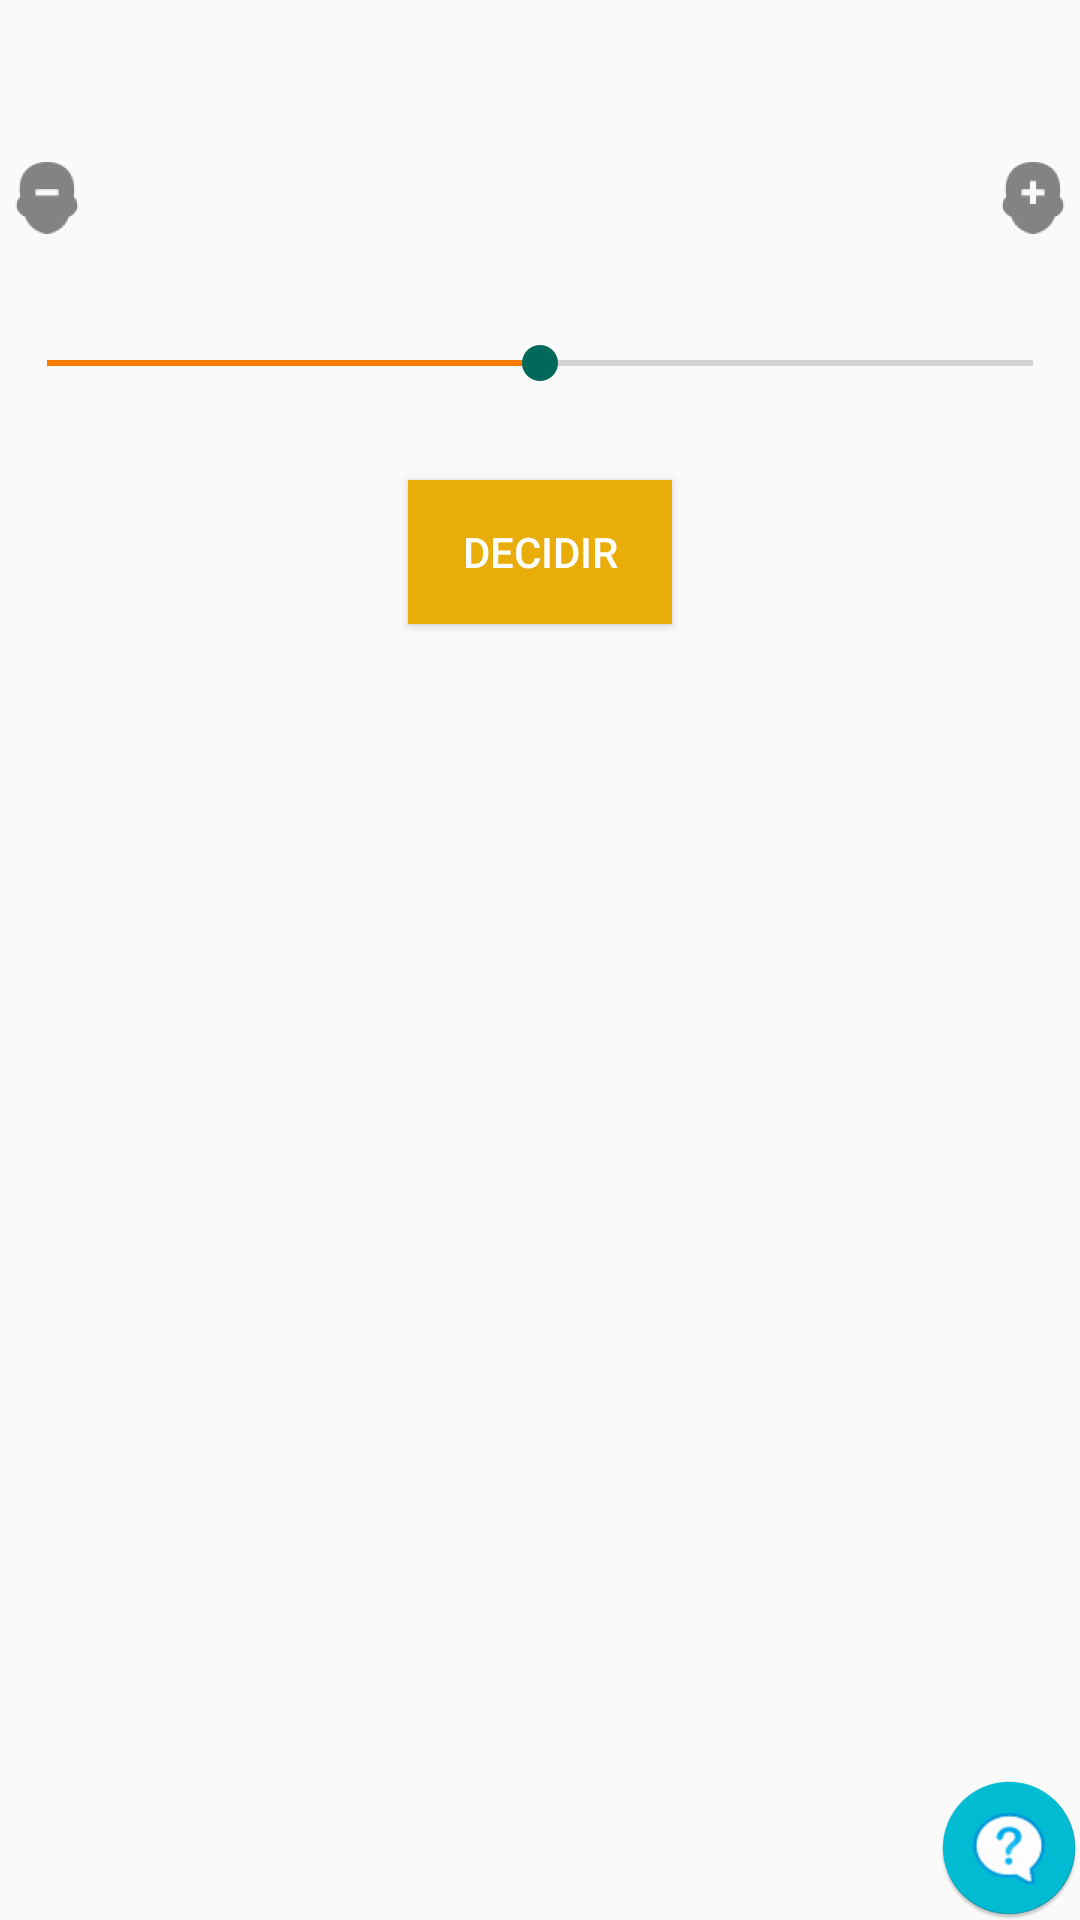

Icons on this 1080×1920 Android screen, each with the point to tap as point (x, y):
ayuda: point (1009, 1849)
